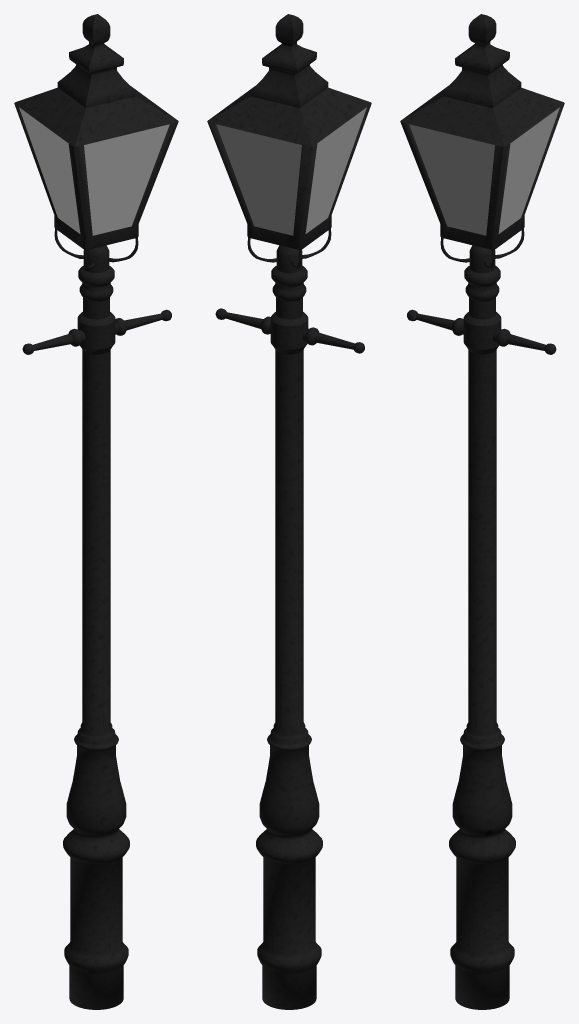
File: light.obj
3 views of the same model, side by side, from view 1: azimuth 30°, elevation 25°; view 2: azimuth 150°, elevation 25°; view 3: azimuth 330°, elevation 25° (orthographic).
Visible parts, largest first — view 1: Old_English_Street_Lamp_Cylinder.006; view 2: Old_English_Street_Lamp_Cylinder.006; view 3: Old_English_Street_Lamp_Cylinder.006.
Part boxes in pixels (x1,y1,x2,y2): Old_English_Street_Lamp_Cylinder.006: (14,14,178,1009); Old_English_Street_Lamp_Cylinder.006: (207,14,371,1009); Old_English_Street_Lamp_Cylinder.006: (400,14,564,1009).
Bounding box in the file's own units: 1.41 × 9.05 × 1.02.
3 materials, 1 textured.
